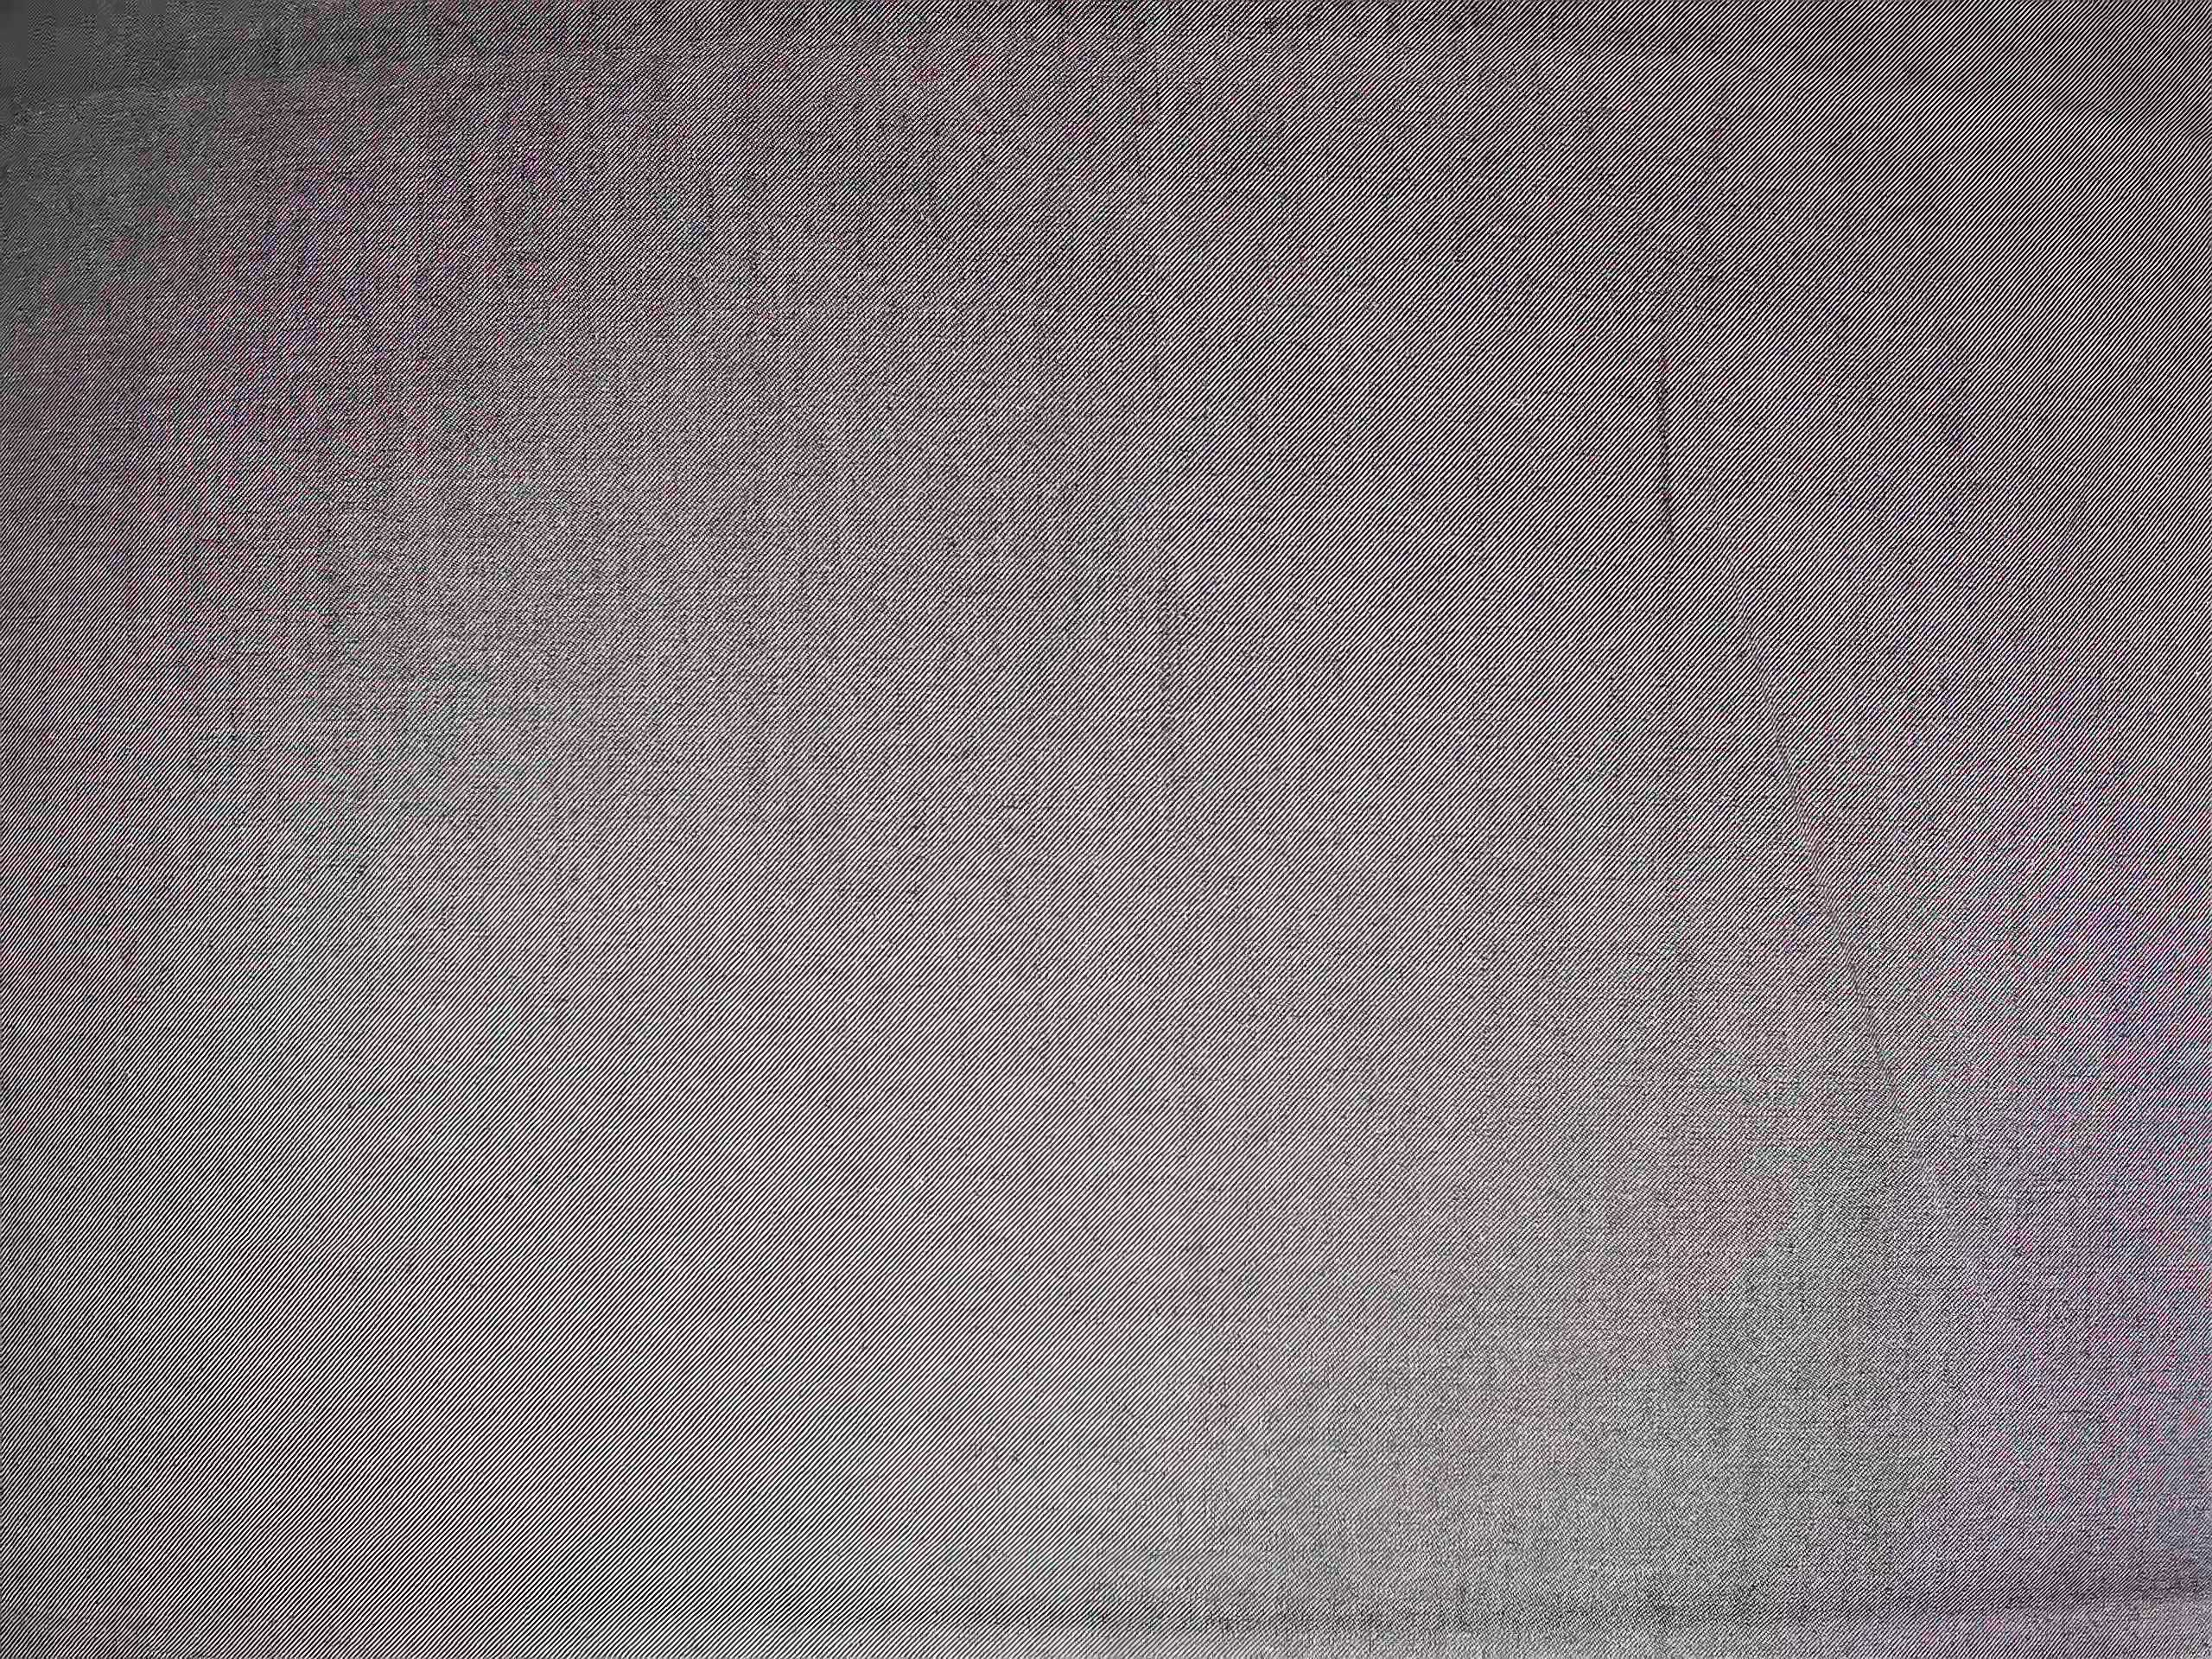hanging-warp: (1137, 533, 1209, 845), (1648, 328, 1688, 594)
